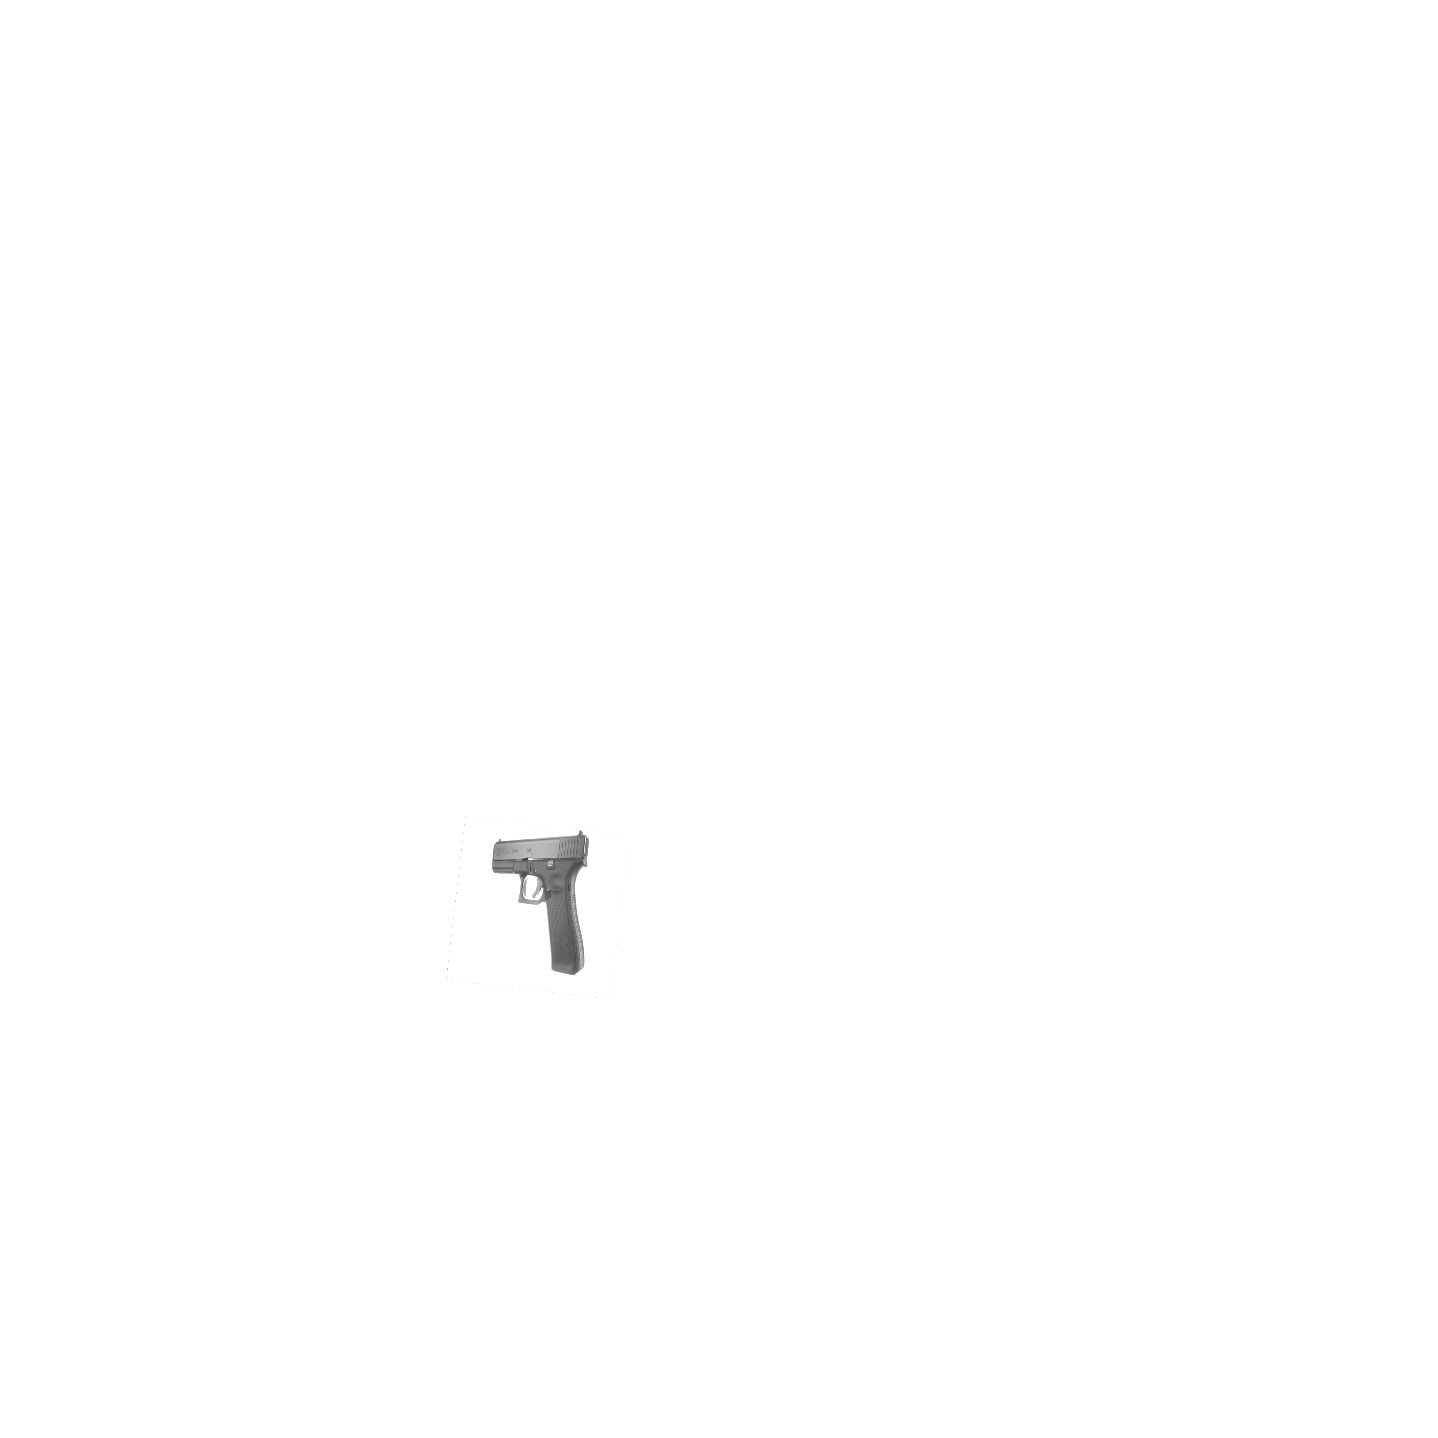gun: (486, 830, 590, 982)
